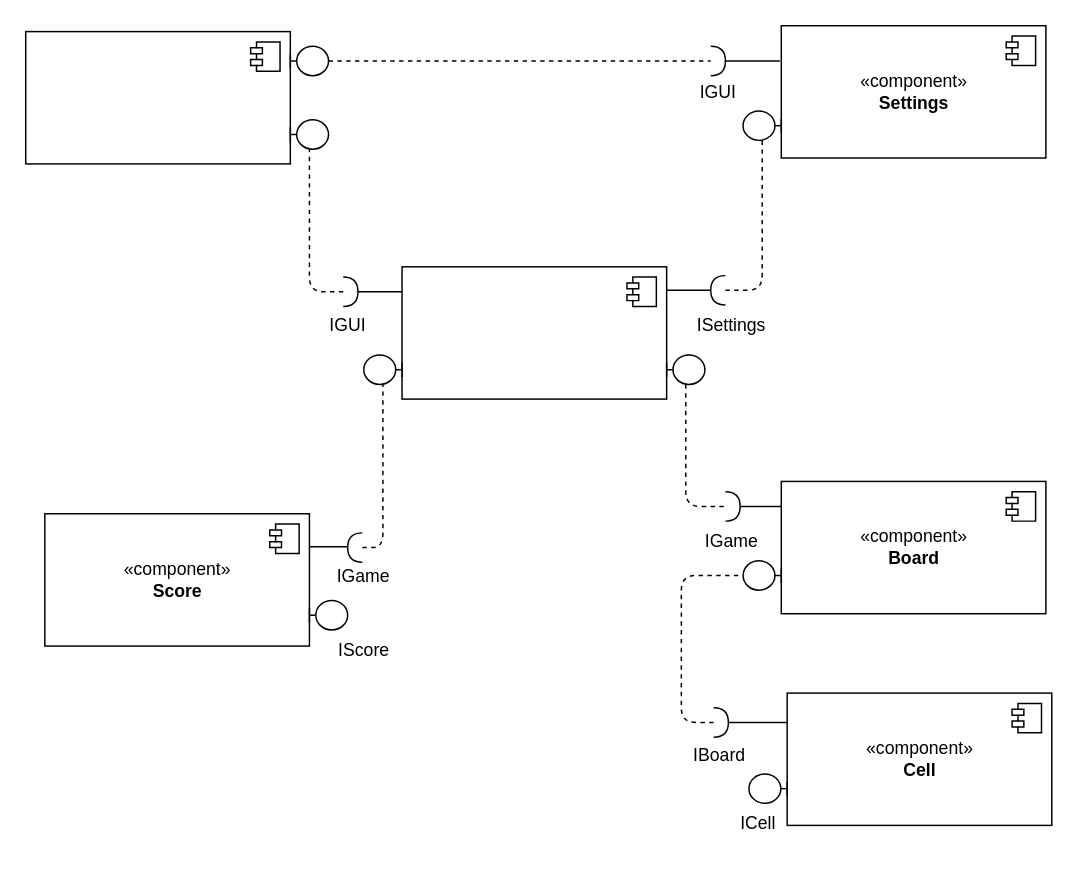
The diagram is 1078 pixels wide and 872 high, and some of its shapes have lost their labels. Here are the shapes that lost their labels. From the top down, the centre of each, then its label:
the point at 157,97: «component» GUI
the point at 534,332: «component» Game
